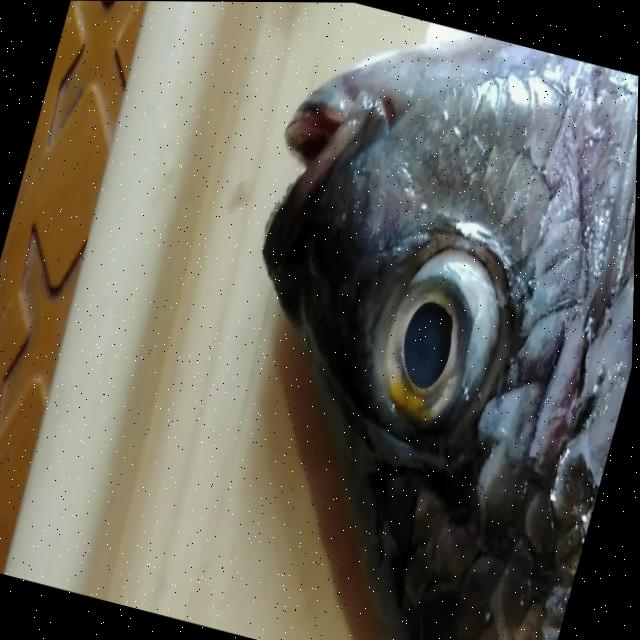Fresh: (344, 184, 547, 469)
